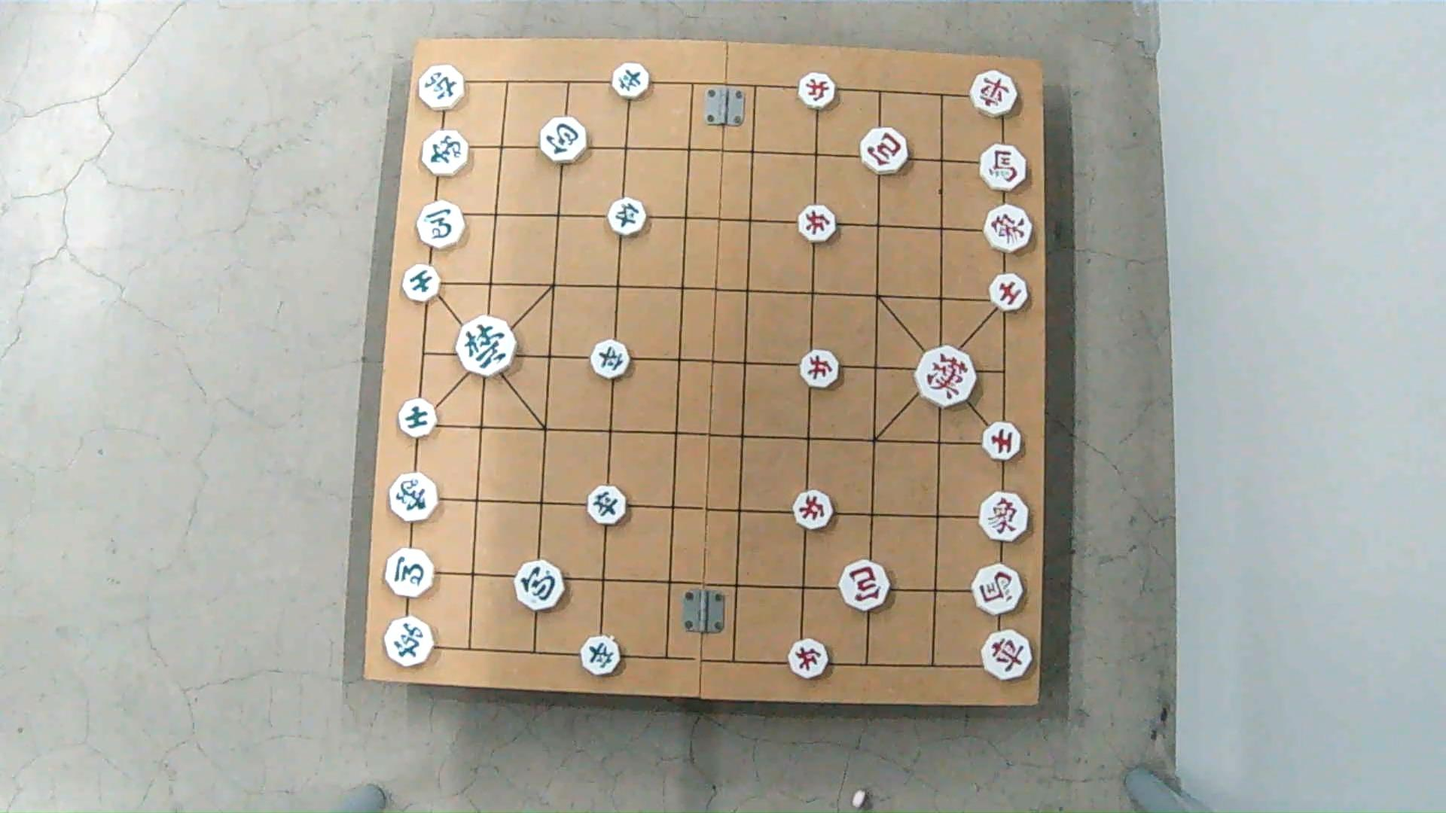cha_green: (415, 63, 467, 113), (383, 619, 435, 665)
cha_red: (980, 629, 1036, 681), (969, 70, 1020, 113)
jol_green: (581, 639, 625, 677), (589, 489, 632, 524), (590, 343, 632, 378), (606, 199, 647, 233), (611, 66, 651, 99)
jol_red: (792, 489, 837, 531), (795, 72, 840, 108), (789, 640, 832, 676), (798, 352, 842, 387), (795, 208, 838, 242)
ma_green: (414, 201, 468, 248), (383, 552, 435, 597)
ma_red: (975, 562, 1027, 614), (979, 145, 1029, 188)
po_green: (510, 561, 569, 609), (539, 115, 590, 166)
po_red: (840, 565, 894, 610), (860, 129, 912, 173)
sa_green: (400, 261, 442, 301), (398, 400, 438, 436)
sa_red: (986, 271, 1030, 315), (980, 420, 1024, 461)
sang_green: (386, 472, 441, 522), (422, 125, 470, 176)
sang_red: (977, 486, 1032, 541), (982, 201, 1036, 253)
wang_green: (456, 312, 518, 376)
wang_red: (917, 351, 978, 404)
